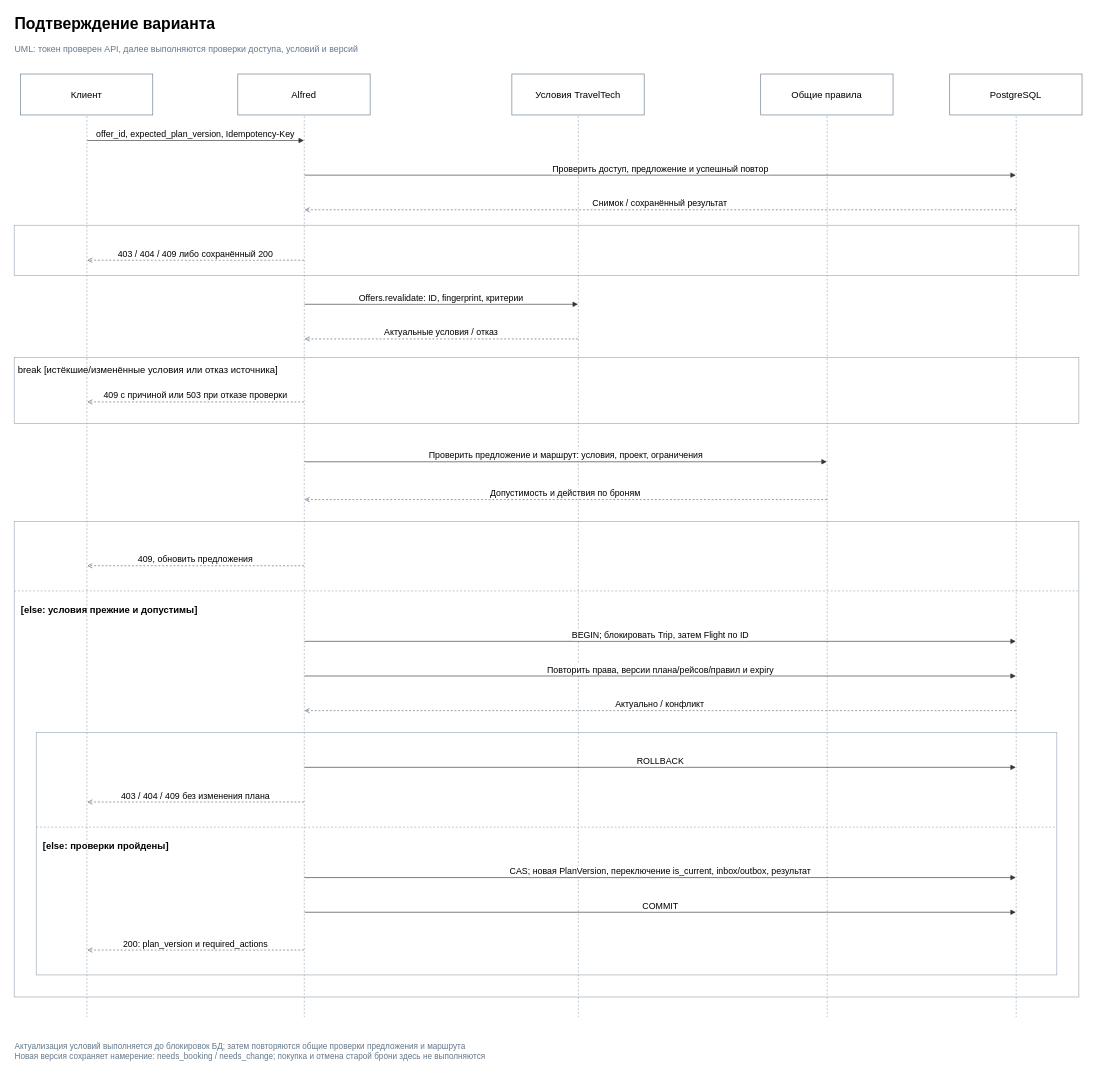
Some shapes in this 1093 by 1075 pixel diagram are drawn without their labels. The box of each missing label's shape, as (x1, y1, x2, y2) in pixels:
alt [общие правила отклонили вариант / изменился rules_version]: (14, 521, 1079, 997)
alt [права или основание изменились]: (36, 732, 1057, 975)
break [отказ доступа, конфликт ключа или успешный повтор]: (14, 225, 1079, 276)
